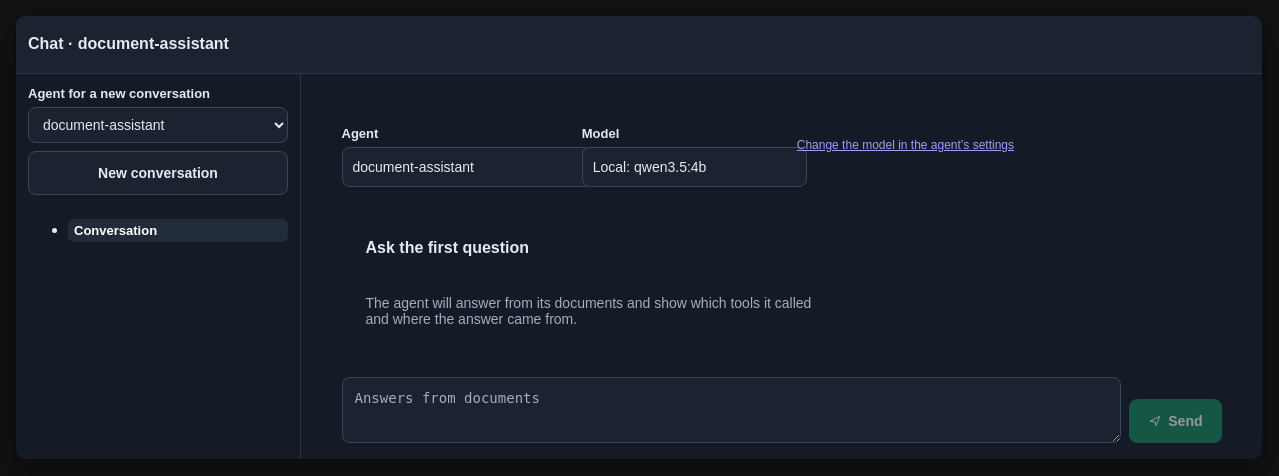
Chat › "Stop" asks core to stop the answer; the input returns with the message from history
Type "question" into the text box with placeholder "Answers from documents" at {"x": 731, "y": 410}, box [342, 376, 1121, 442]
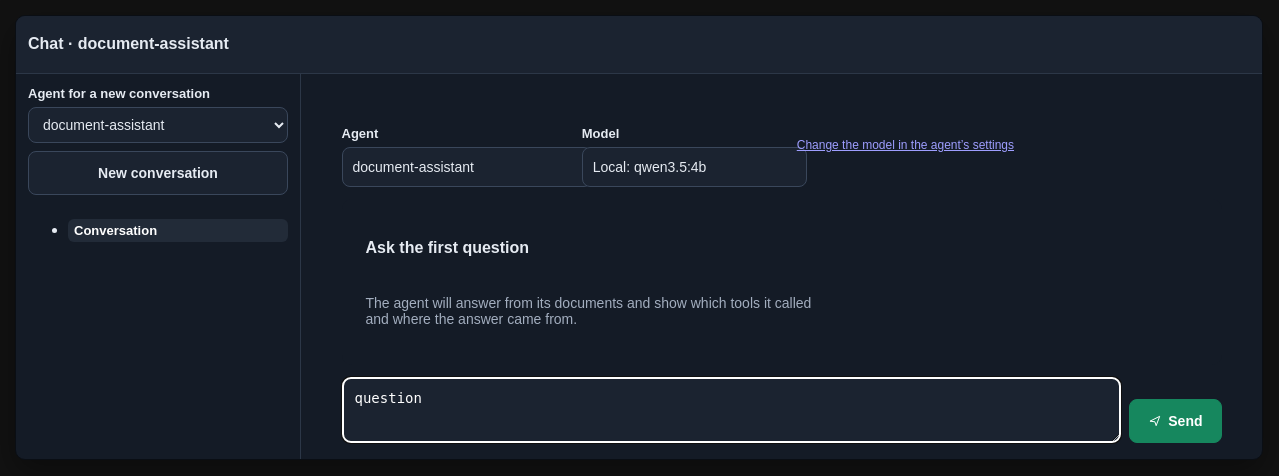
Click the button "Send" at {"x": 1175, "y": 420}, box [1129, 398, 1222, 442]
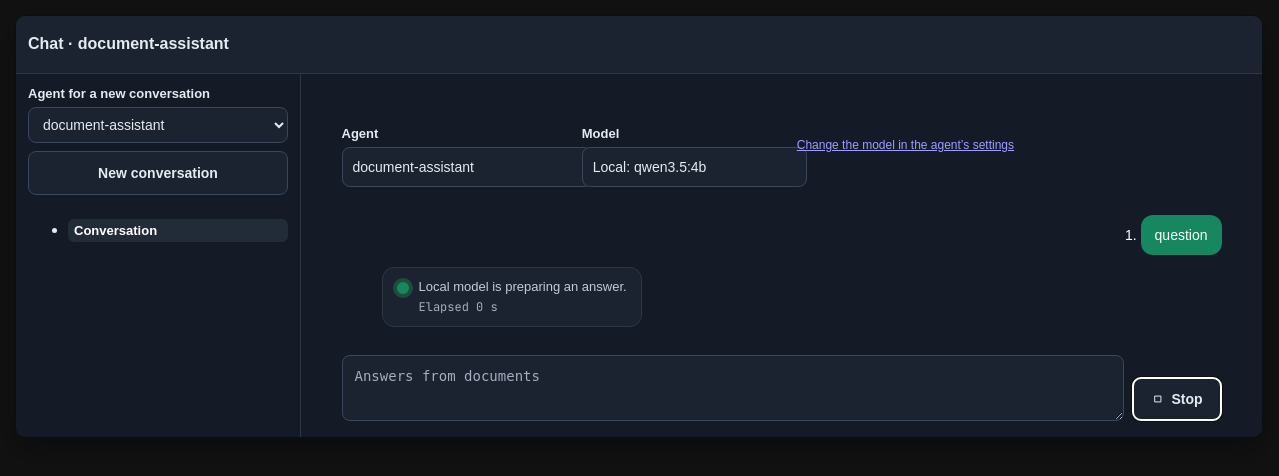
Click the button "Stop" at {"x": 1177, "y": 399}, box [1132, 377, 1222, 421]
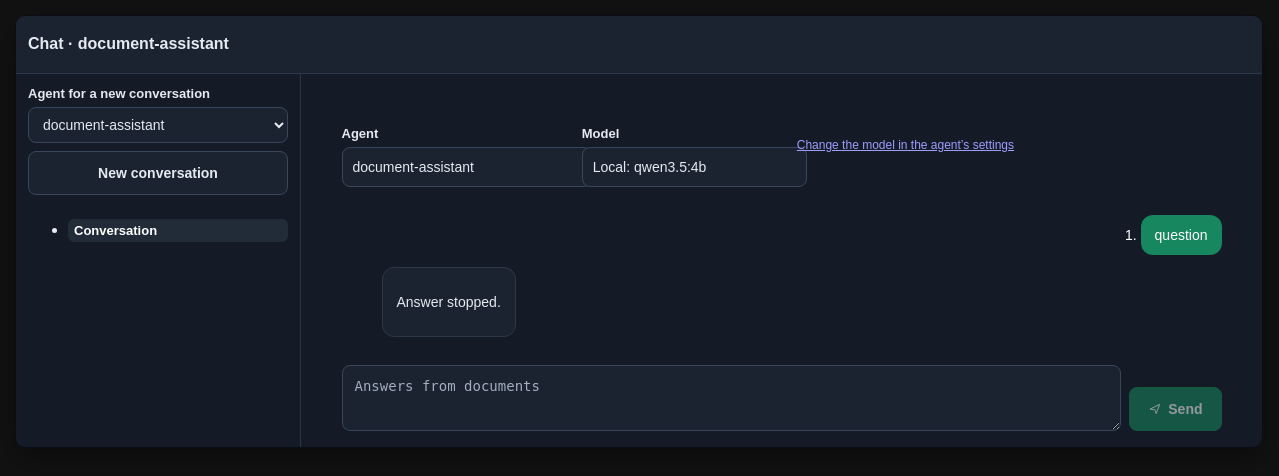
Expected: the text "Answer stopped." is shown, [396, 292, 501, 312]
Expected: the button "Send" is shown, [1129, 387, 1222, 431]
Expected: the message "Local model is preparing an answer. Elapsed 0 s" is gone
